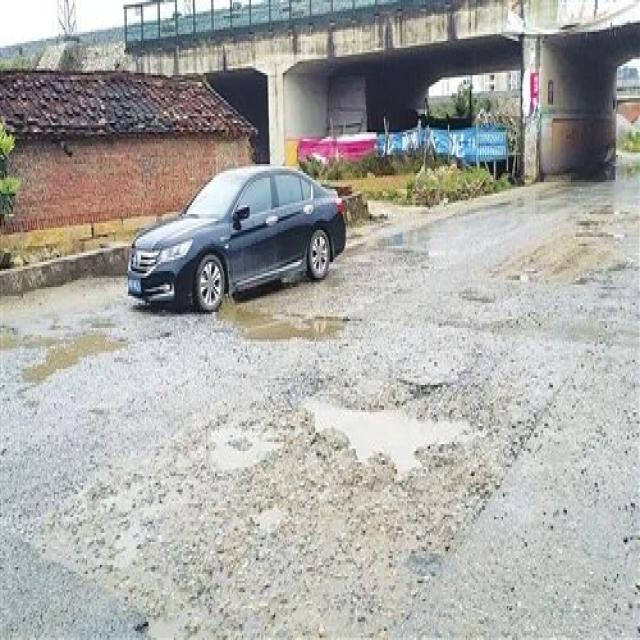Pothole: (299, 385, 502, 485), (10, 328, 122, 385), (227, 310, 352, 350)
